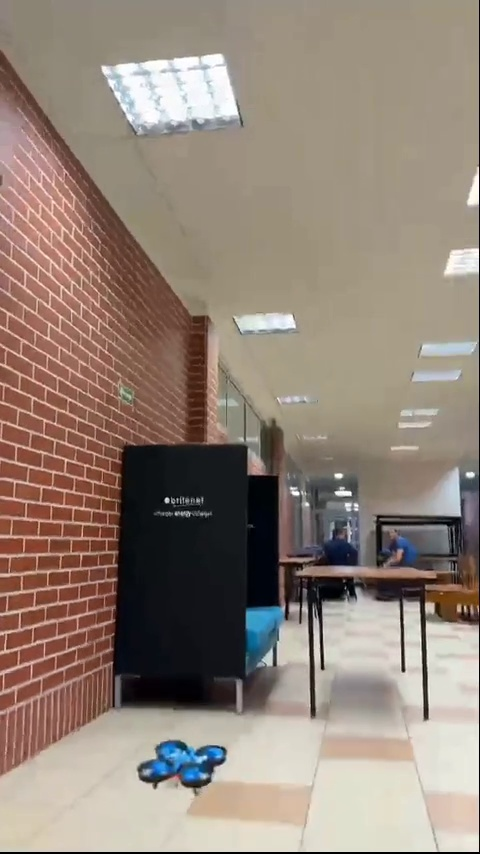drone: (133, 741, 227, 789)
no vest: (372, 518, 423, 579), (317, 522, 360, 570)
